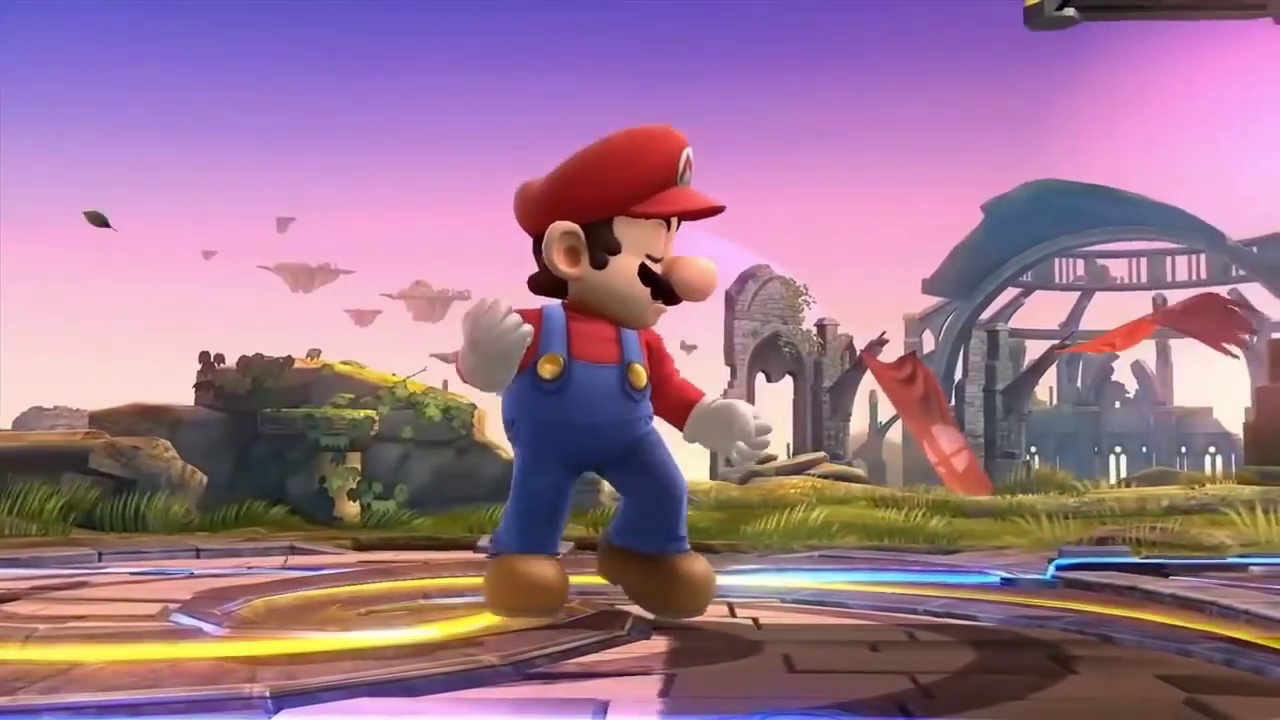Mario: (458, 125, 776, 622)
